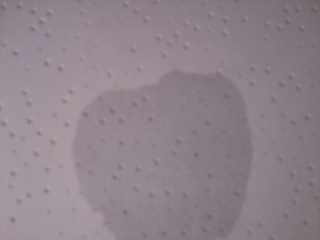Water_detected: (89, 92, 219, 229)
